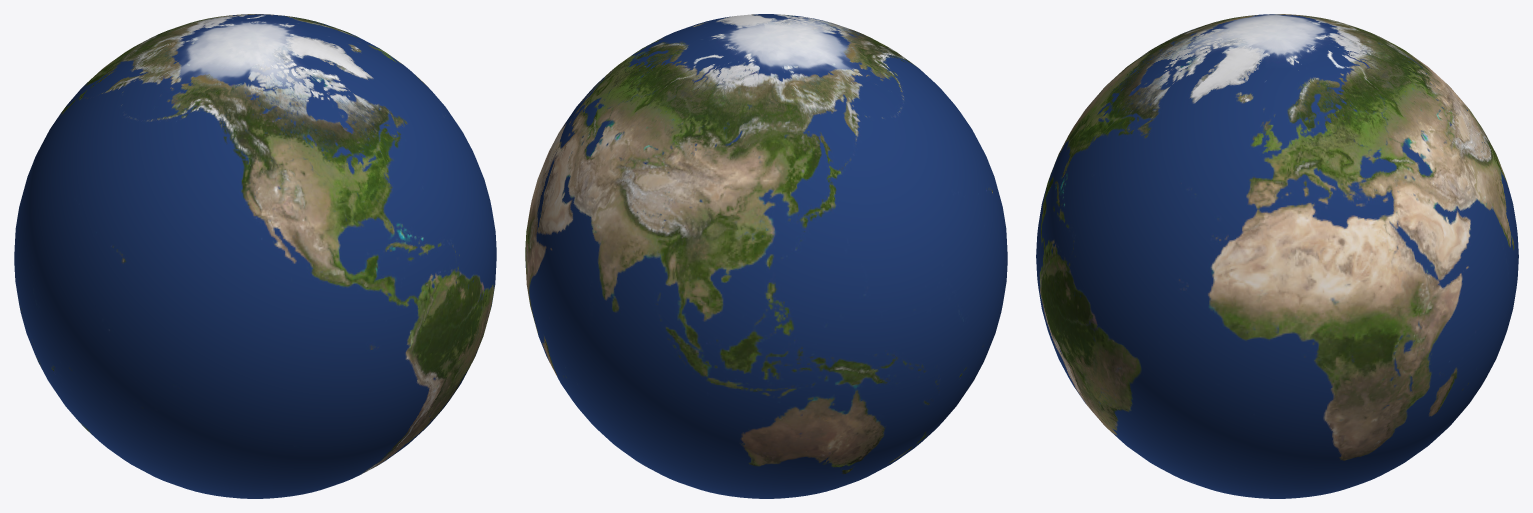
Rendered from Earth.glb.
The picture shows the model from 3 angles, left to right: view 1: azimuth 30°, elevation 25°; view 2: azimuth 150°, elevation 25°; view 3: azimuth 270°, elevation 25°; orthographic projection.
Visible parts, largest first — view 1: Earth; view 2: Earth; view 3: Earth.
Boxes of the visible parts, box(x1,y1,x2,y2) form: Earth: box(14, 14, 496, 498); Earth: box(525, 14, 1007, 498); Earth: box(1036, 14, 1518, 498).
Bounding box in the file's own units: 1.97 × 2 × 1.97.
1 material, 1 textured.
